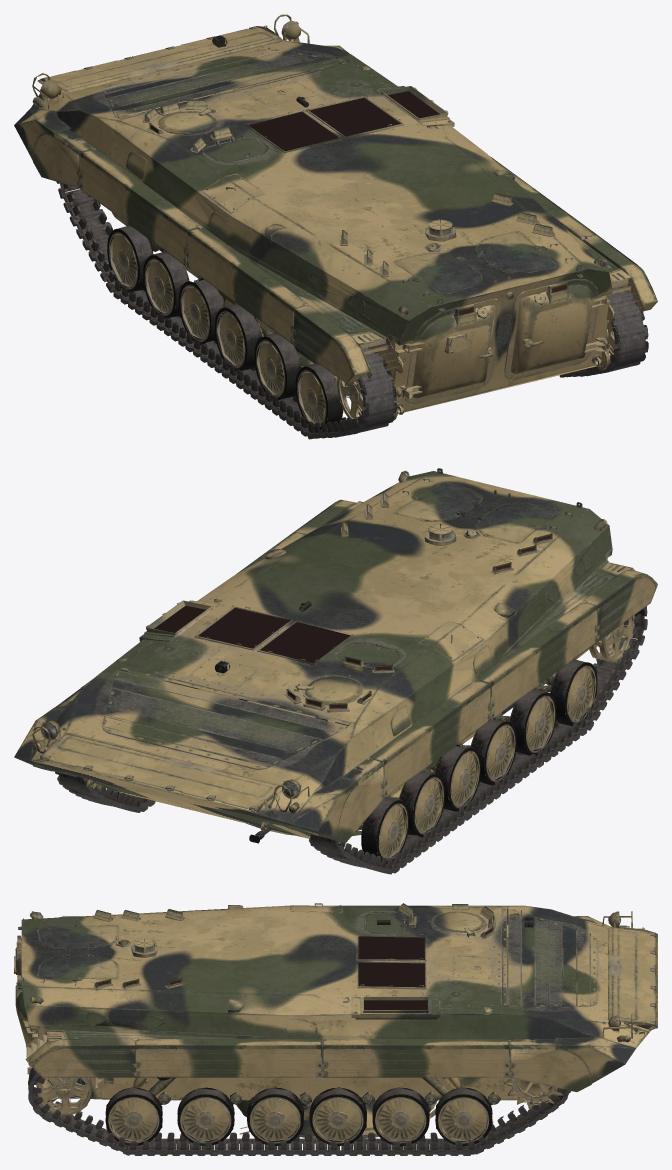
The model's file is ifv_east.glb.
3 views of the same model, one above another, from view 1: azimuth 30°, elevation 25°; view 2: azimuth 150°, elevation 25°; view 3: azimuth 270°, elevation 25° (orthographic). The views are drawn at different scales.
Visible parts, largest first — view 1: hull; view 2: hull; view 3: hull, turret.
Boxes of the visible parts, x1,y1,x2,y2 form: hull: (14, 14, 657, 439); hull: (14, 468, 657, 874); hull: (14, 903, 657, 1155); turret: (236, 1014, 436, 1138).
Size of the model in its own units: 3.23 by 2.07 by 6.72.
5 materials, 5 textured.
